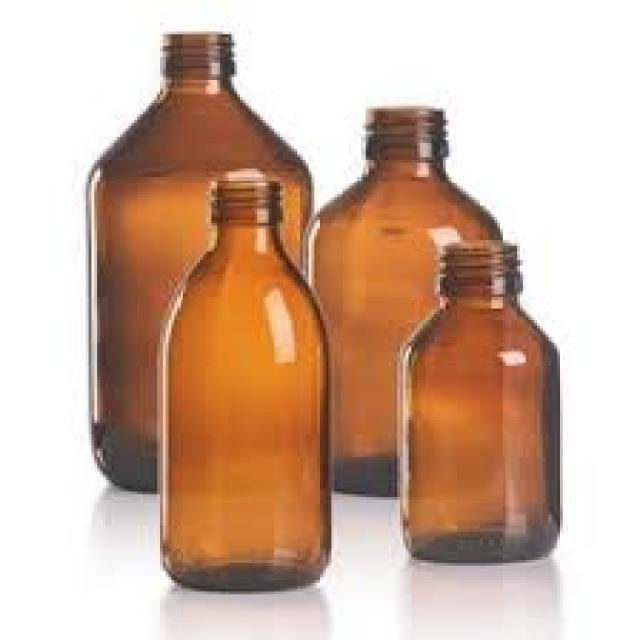glass: (86, 31, 557, 589)
